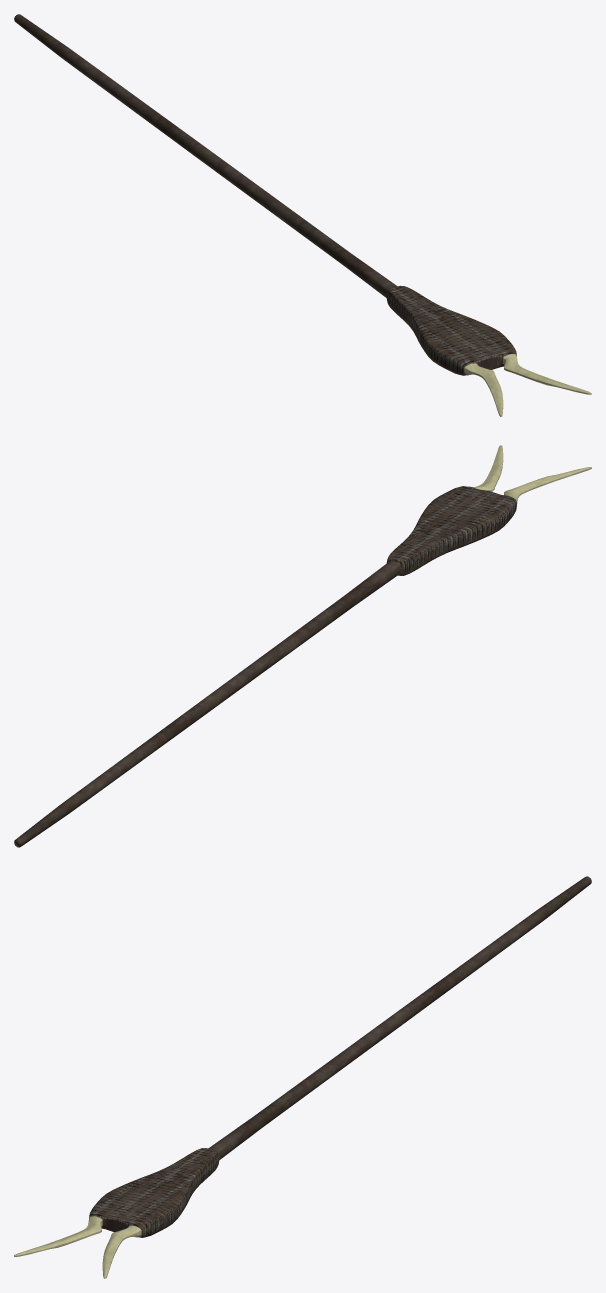
Rendered from eel_iron.fbx.
3 renders of one model, top to bottom at view 1: azimuth 30°, elevation 25°; view 2: azimuth 150°, elevation 25°; view 3: azimuth 330°, elevation 25°, orthographic.
Visible parts, largest first — view 1: mesh_eeliron; view 2: mesh_eeliron; view 3: mesh_eeliron.
Part boxes in pixels (x1,y1,x2,y2): mesh_eeliron: (14,14,591,416); mesh_eeliron: (14,445,591,847); mesh_eeliron: (14,876,591,1278).
Bounding box in the file's own units: 1.59 × 0.2697 × 15.86.
Materials: 1 (1 with a texture image).
